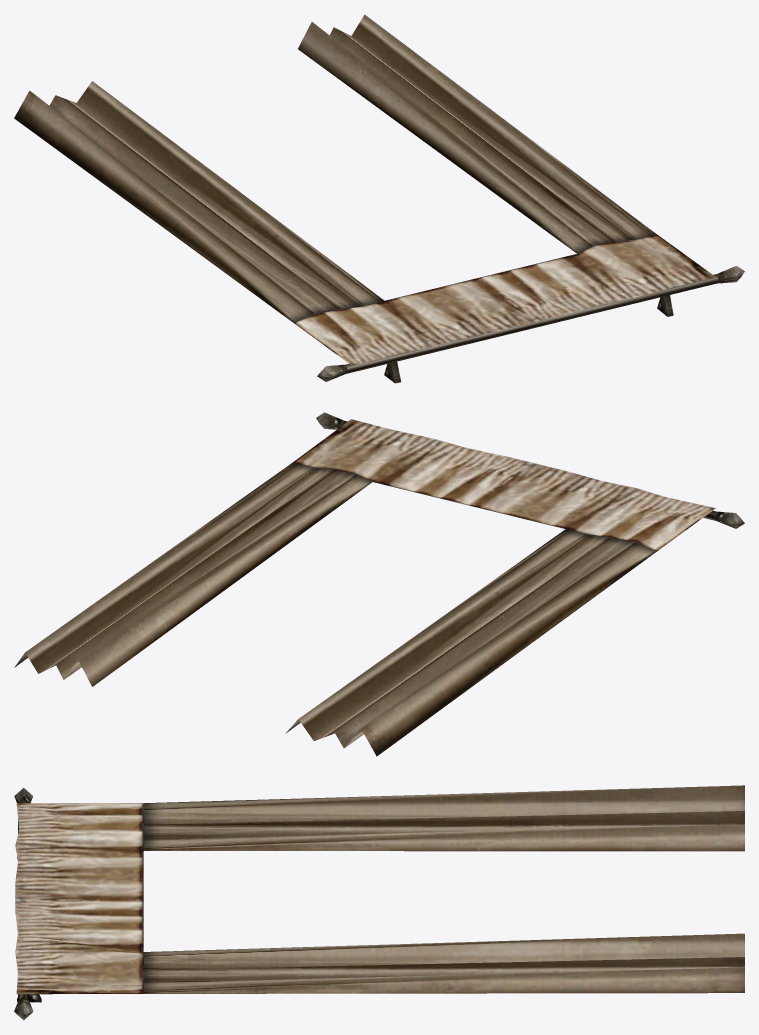
The model's file is default_curtain_open.fbx.
3 views of the same model, one above another, from view 1: azimuth 30°, elevation 25°; view 2: azimuth 150°, elevation 25°; view 3: azimuth 270°, elevation 25° (orthographic). The views are drawn at different scales.
Visible parts, largest first — view 1: mesh_0; view 2: mesh_0; view 3: mesh_0.
Part boxes in pixels (box(x1,y1,x2,y2)): mesh_0: box(14, 14, 744, 383); mesh_0: box(14, 412, 744, 756); mesh_0: box(14, 785, 744, 1020).
Size of the model in its own units: 188 by 21.84 by 258.
1 material, 1 textured.
